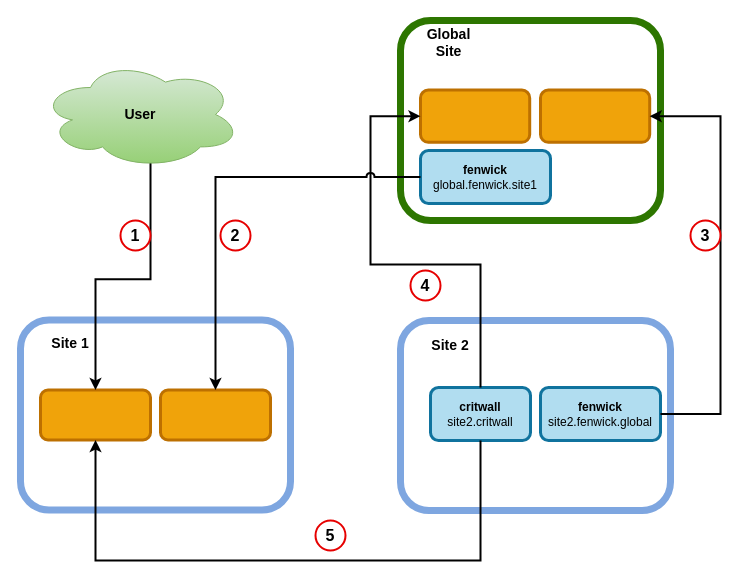
Some shapes in this 747 by 587 pixel diagram are drawn without their labels. The shapes that lost their labels are listed below. From the top down, each one's centre as x and y in pixels, then its label:
At (474,115): "raven global.raven".
At (594,115): "luskan global.luskan".
At (95,414): "minoc site1.minoc".
At (215,414): "luskan".
